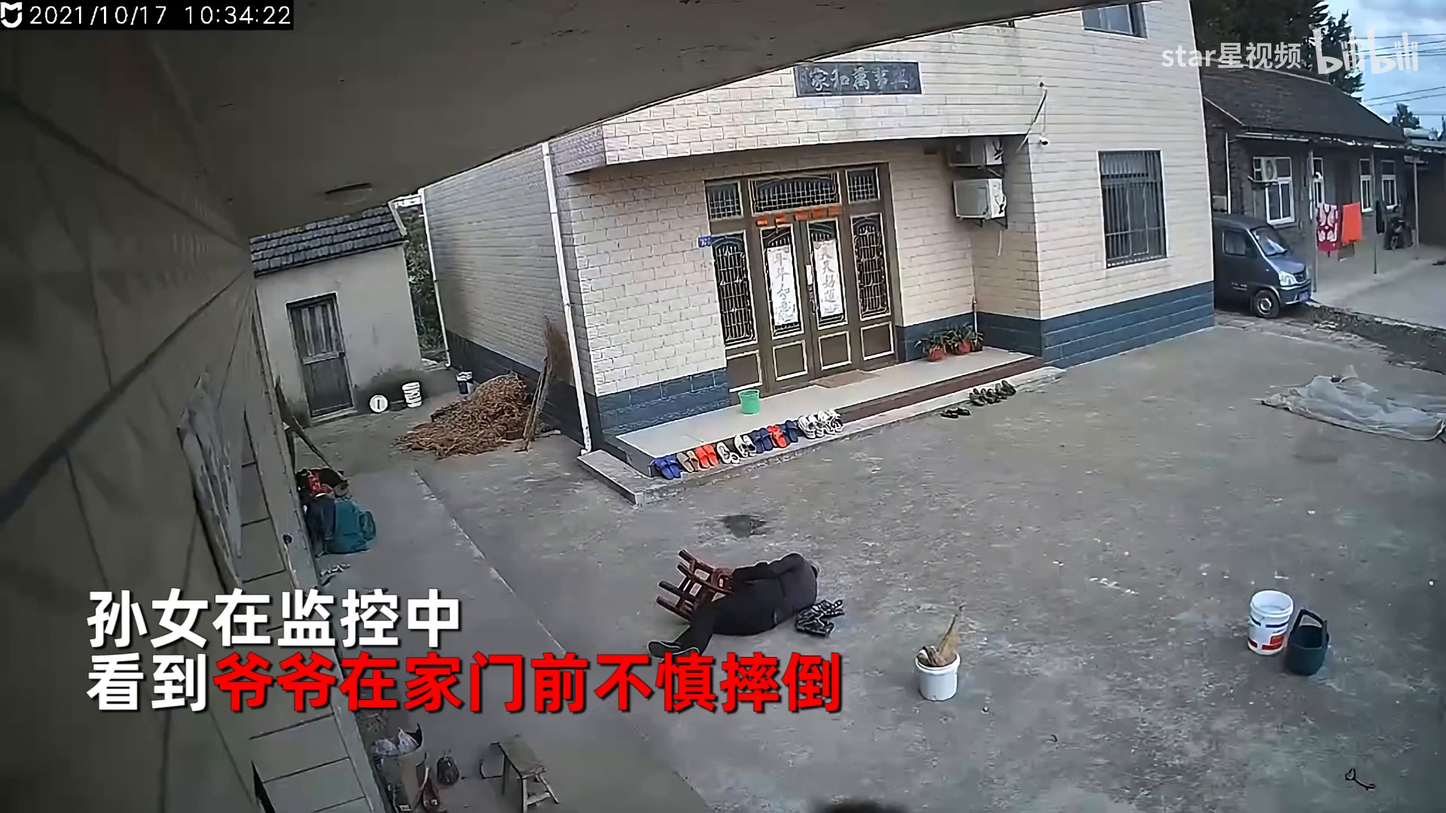fall_down: (643, 550, 822, 657)
